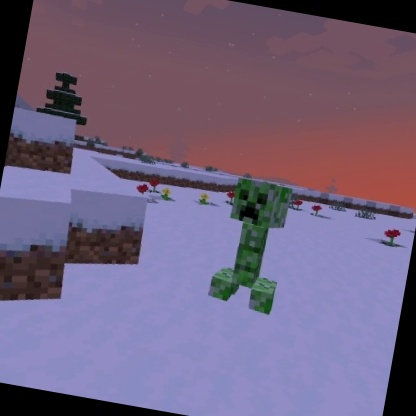creeper: (201, 171, 298, 319)
